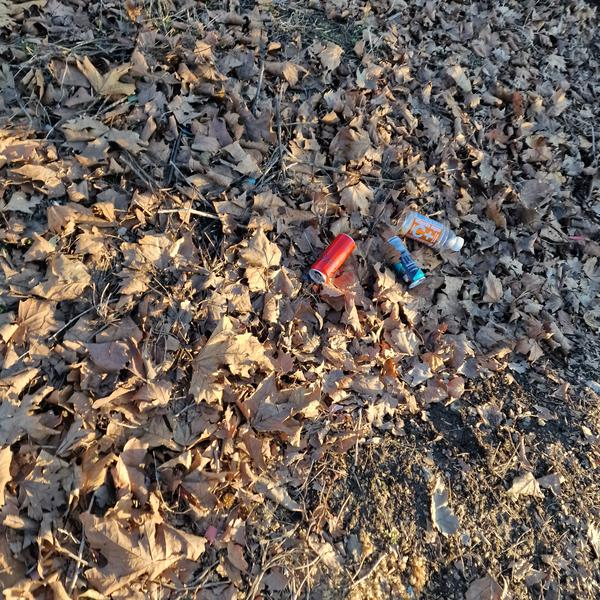can: (304, 226, 360, 289), (377, 232, 428, 292)
plastic_bottle: (393, 206, 469, 259)
